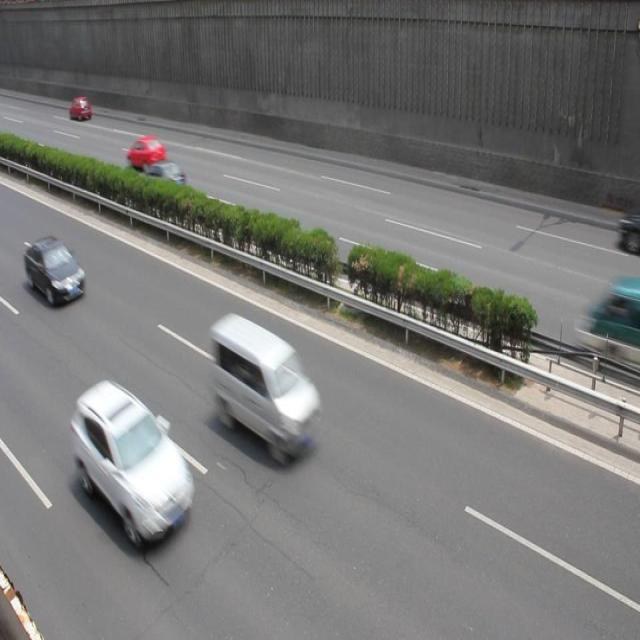car: (73, 380, 198, 548), (213, 312, 324, 463), (24, 233, 86, 307), (142, 160, 187, 205), (126, 133, 167, 174), (70, 95, 93, 122)
